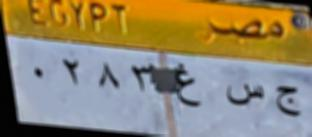0: (26, 60, 53, 88)
2: (59, 53, 82, 88)
3: (127, 60, 153, 98)
8: (98, 60, 120, 95)
ghayn: (171, 60, 203, 112)
jeem: (273, 79, 303, 122)
seen: (222, 77, 266, 113)
